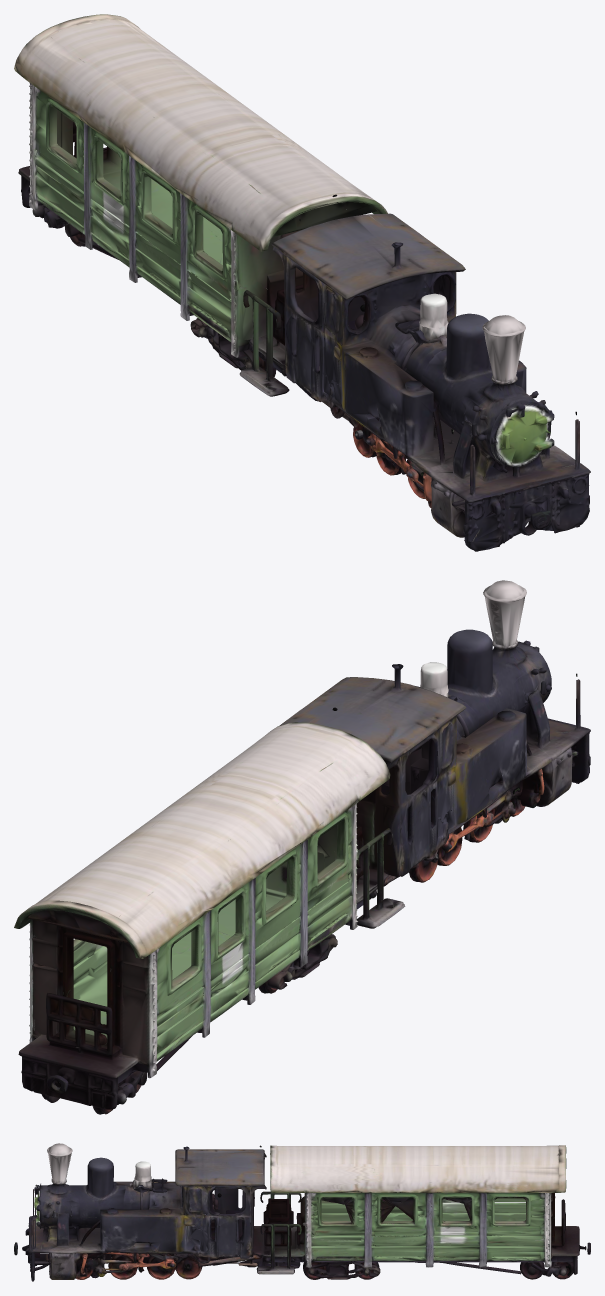
File: samoborcek.opt.glb
The picture shows the model from 3 angles, top to bottom: view 1: azimuth 30°, elevation 25°; view 2: azimuth 150°, elevation 25°; view 3: azimuth 270°, elevation 25°; orthographic projection. The views are drawn at different scales.
Visible parts, largest first — view 1: world; view 2: world; view 3: world.
Part boxes in pixels (x1,y1,x2,y2): world: (14, 14, 590, 551); world: (14, 580, 590, 1114); world: (14, 1143, 590, 1281).
Size of the model in its own units: 0.1637 by 0.2428 by 1.
Materials: 1 (1 with a texture image).
